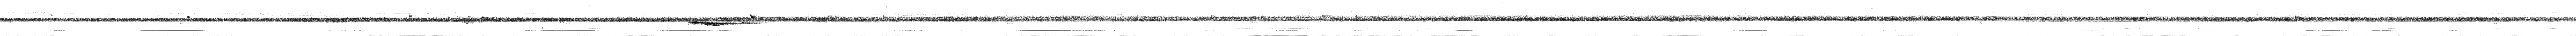meteor: (690, 21, 761, 26), (409, 15, 412, 16)
